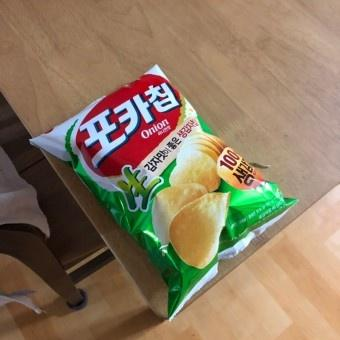snack: (28, 60, 301, 324)
